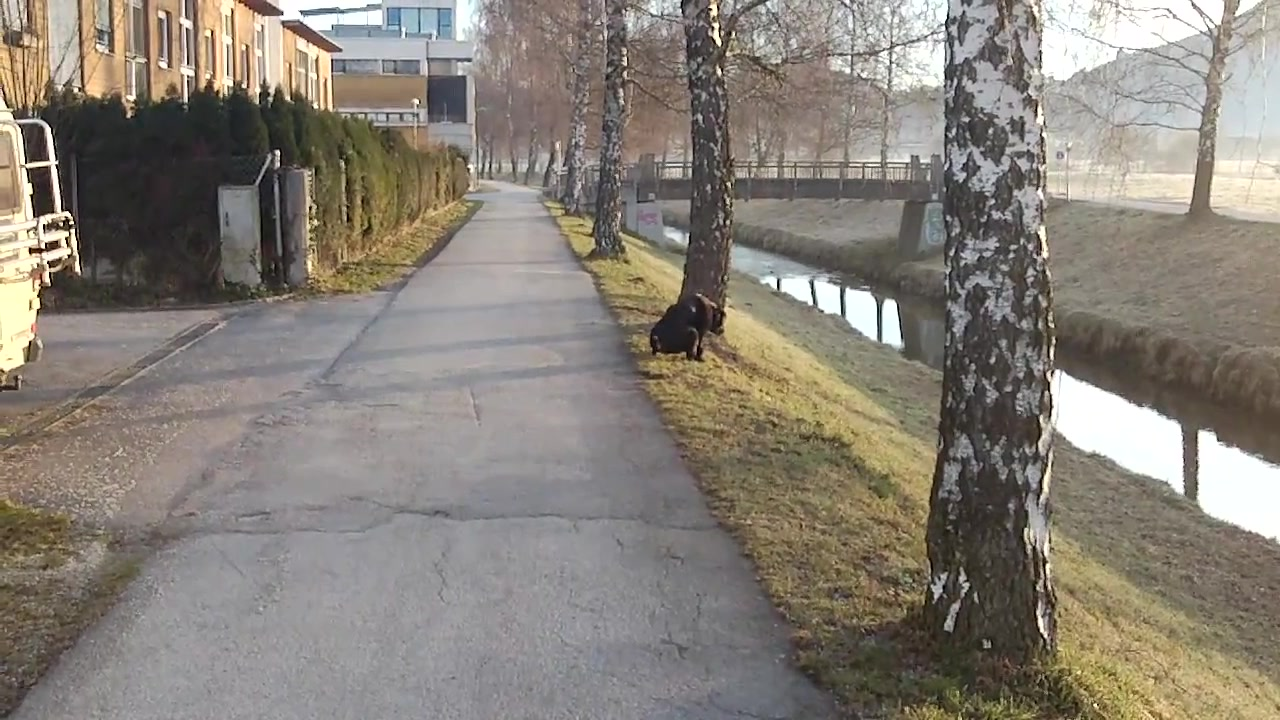dog: (649, 294, 733, 362)
